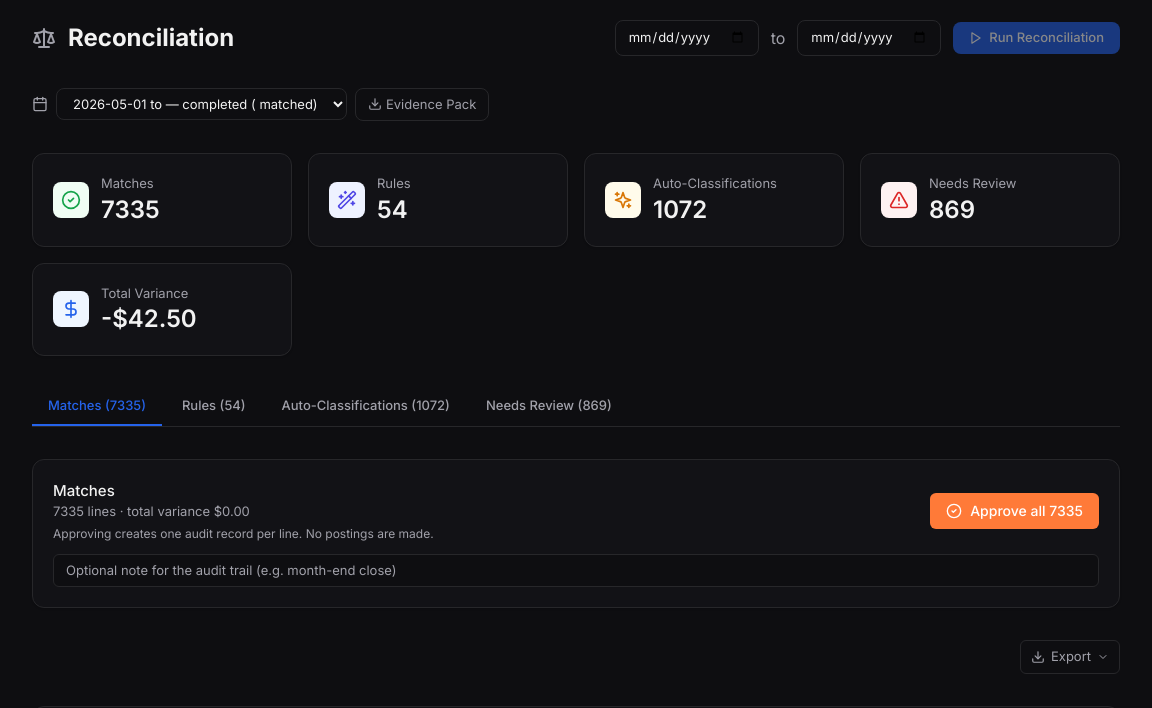
ReconciliationPage four buckets › renders an Export menu beside the classic bucket results table (section=results)
Click the button "Export" at (1070, 657), box [1020, 640, 1120, 674]
(page scrolled)
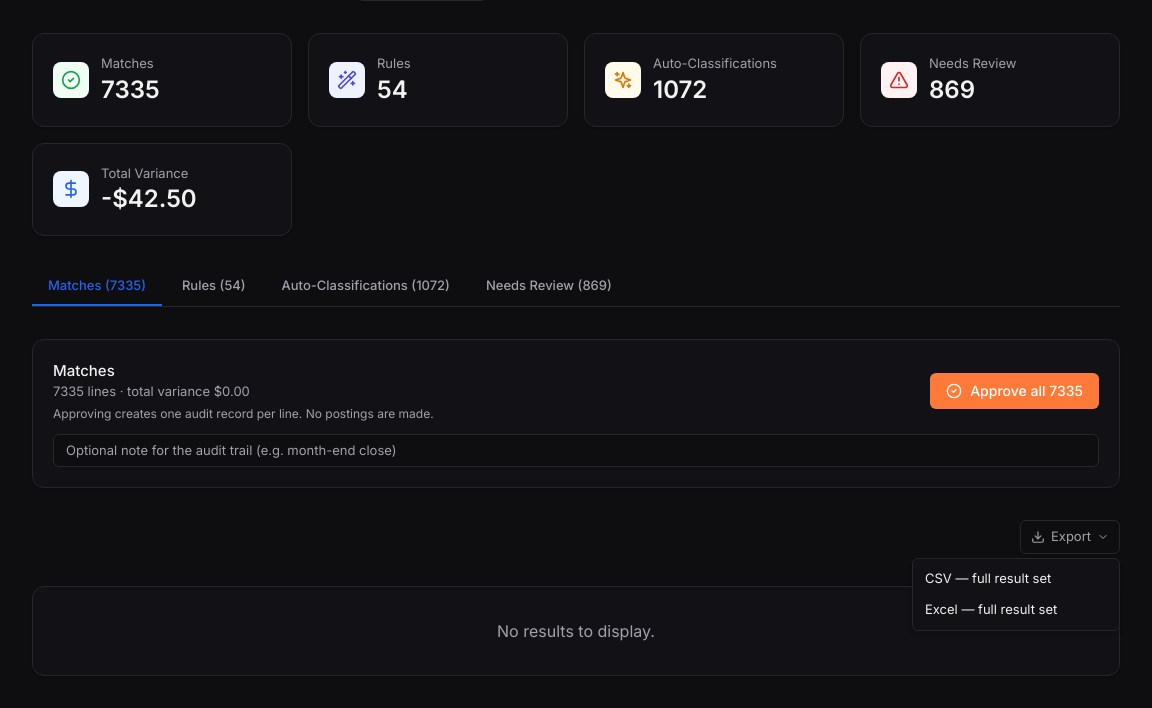
Check: the menu item "CSV — full result set" is shown, box [925, 570, 1051, 586]
Check: the menu item "Excel — full result set" is shown, box [925, 601, 1057, 617]
